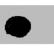correct: (3, 15, 33, 39)
